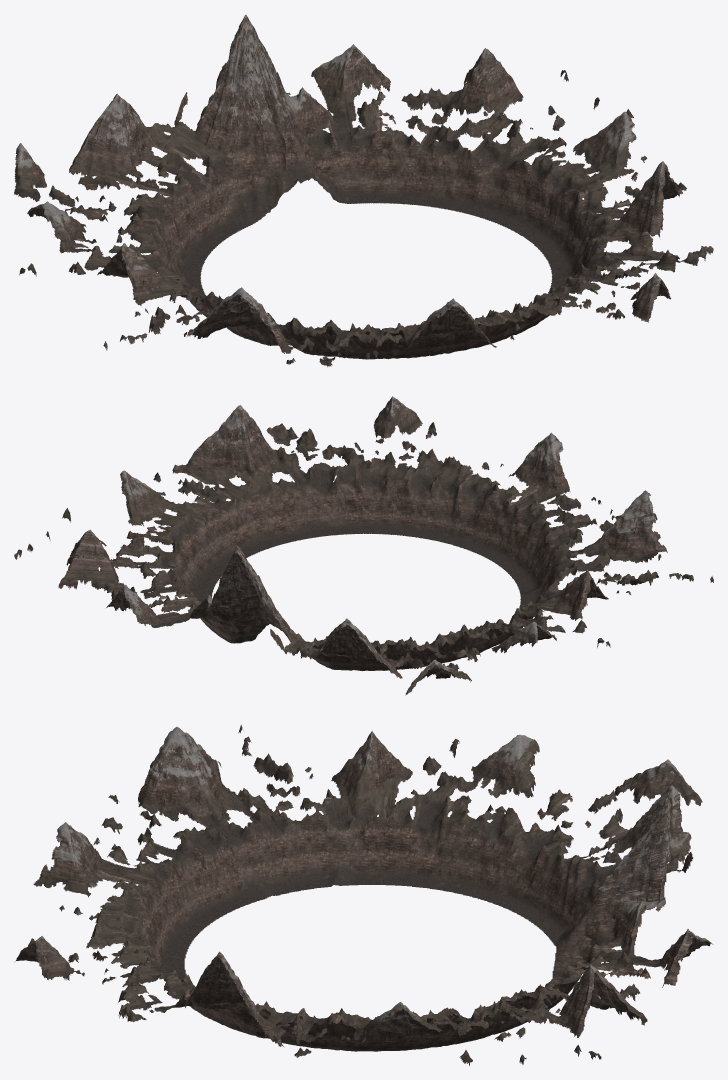
The model's file is backdrop_far_quads_dead.glb.
3 renders of one model, top to bottom at view 1: azimuth 30°, elevation 25°; view 2: azimuth 150°, elevation 25°; view 3: azimuth 270°, elevation 25°, orthographic. The views are drawn at different scales.
Visible parts, largest first — view 1: far_N, far_E, far_W, far_S; view 2: far_S, far_E, far_N, far_W; view 3: far_W, far_N, far_S, far_E.
Part boxes in pixels (box(x1,y1,x2,y2)): far_N: box(15, 14, 468, 258); far_E: box(420, 48, 713, 293); far_W: box(14, 164, 325, 363); far_S: box(287, 250, 698, 366); far_S: box(290, 396, 657, 582); far_E: box(14, 405, 325, 602); far_N: box(59, 546, 451, 695); far_W: box(410, 490, 713, 682); far_W: box(115, 724, 651, 907); far_N: box(505, 759, 713, 1025); far_S: box(14, 795, 239, 1025); far_E: box(119, 951, 645, 1065).
Bounding box in the file's own units: 3332 × 801 × 2984.
Materials: 8 (8 with a texture image).
